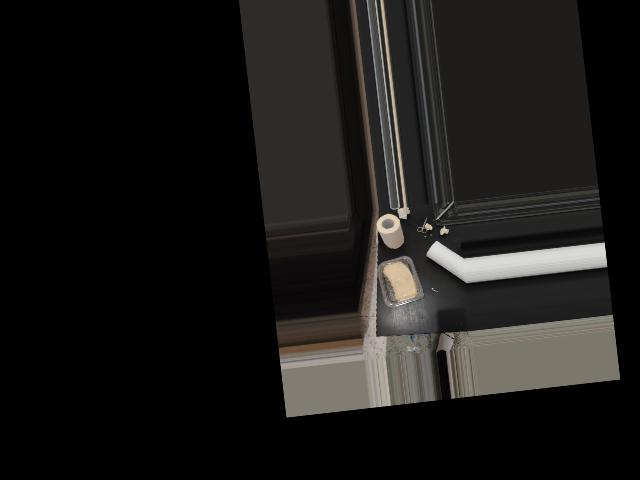cheese: (379, 254, 423, 308)
